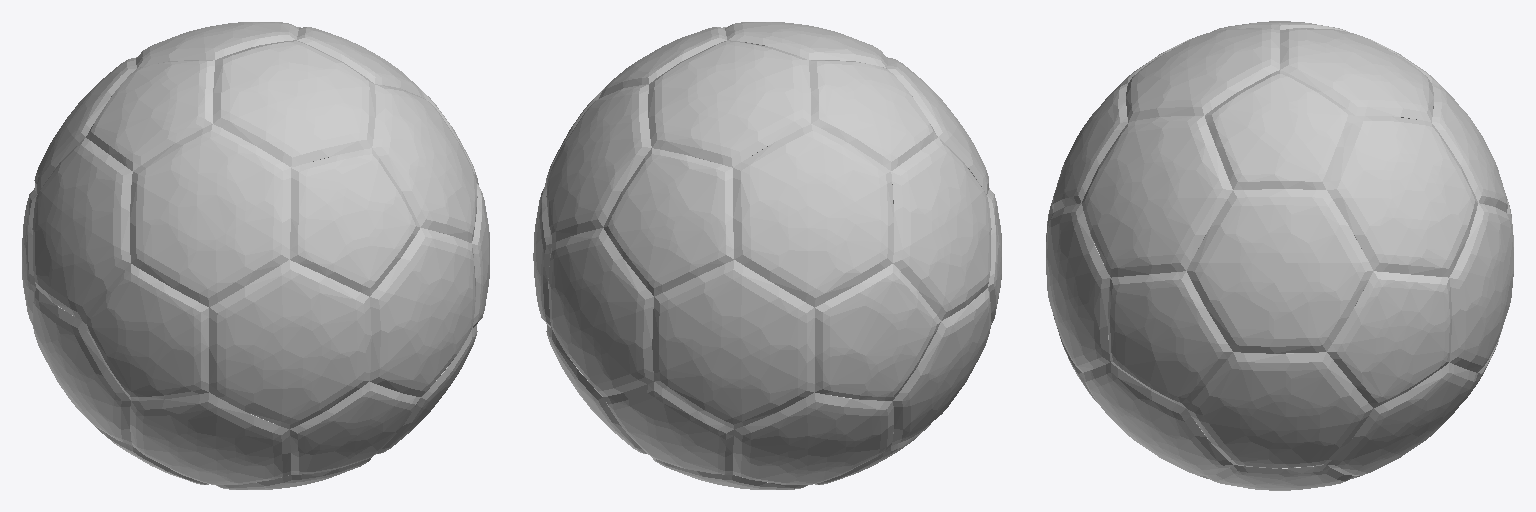
File: football3.obj
The picture shows the model from 3 angles: view 1: azimuth 30°, elevation 25°; view 2: azimuth 150°, elevation 25°; view 3: azimuth 270°, elevation 25°; orthographic projection.
Parts seen in each view (by area): view 1: Solid.001; view 2: Solid.001; view 3: Solid.001.
Boxes of the visible parts, x1=… form: Solid.001: x1=22, y1=22, x2=489, y2=489; Solid.001: x1=533, y1=22, x2=1001, y2=489; Solid.001: x1=1046, y1=21, x2=1513, y2=490.
Bounding box in the file's own units: 1.92 × 1.92 × 1.92.